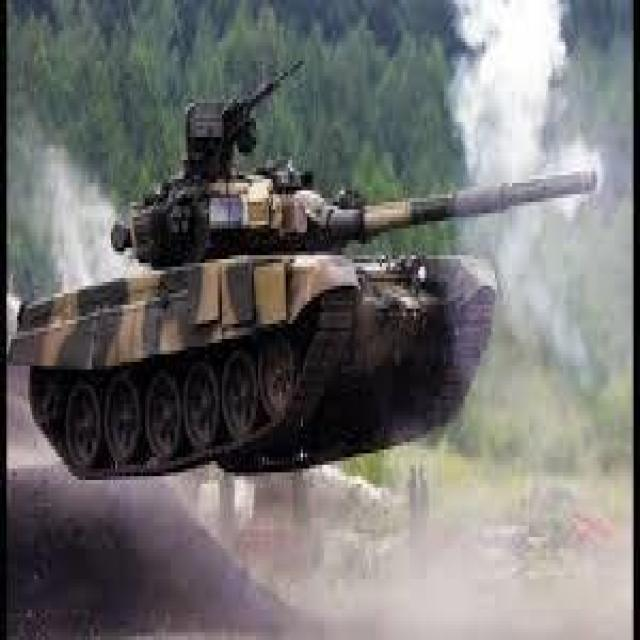MIL_MBT: (27, 103, 551, 469)
